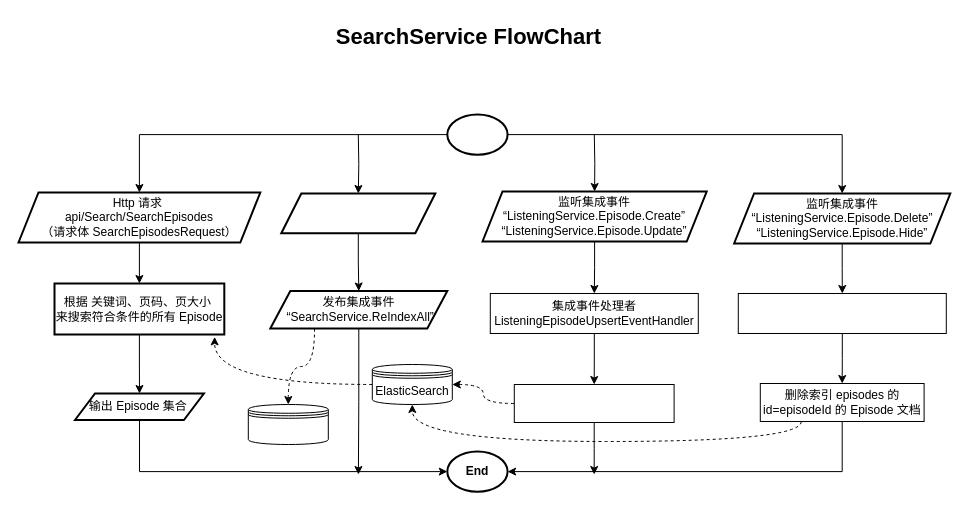
Image size: 975x510. Some labels were removed from this diagram. Here are the shapes that lost their labels. From the top down, the centre of each, then its label:
At [477,134]: "Start".
At [358,213]: "Http 请求 api/Search/ReIndexAll".
At [841,313]: "集成事件处理者 ListeningEpisodeDeletedEventHandler".
At [593,403]: "更新或插入索引 episodes 的 Episode 文档".
At [287,424]: "RabbitMQ".
